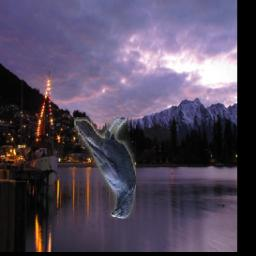Crow: (74, 117, 136, 219)
